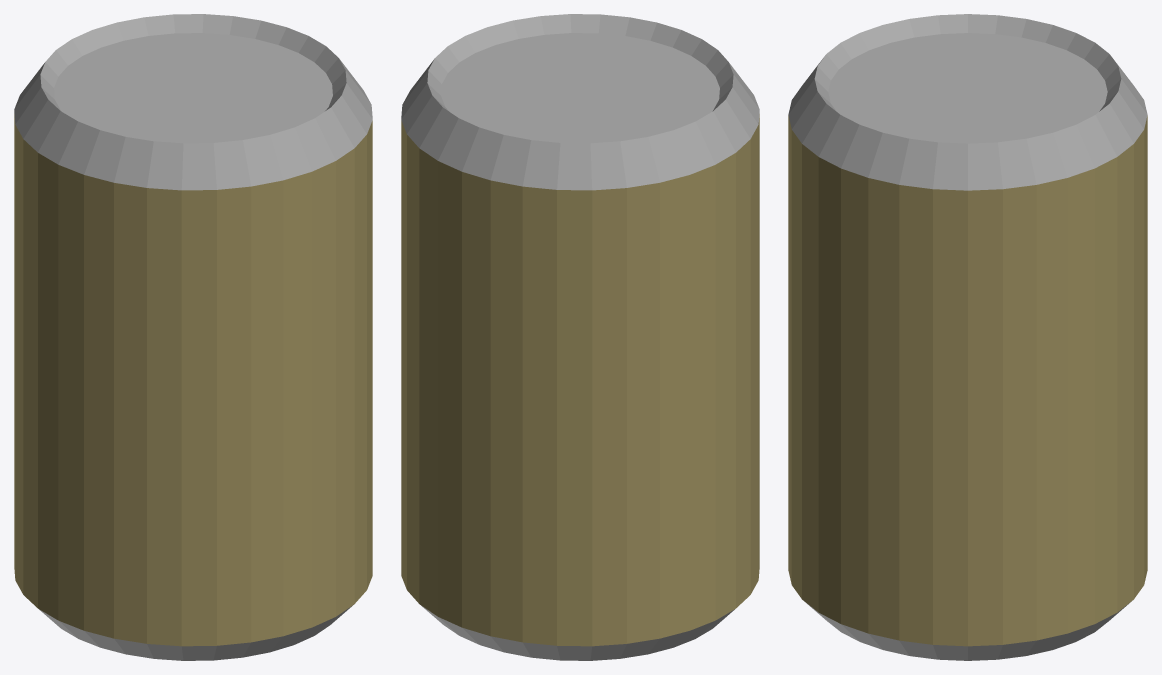
Rendered from sondels.fbx.
The picture shows the model from 3 angles, left to right: view 1: azimuth 30°, elevation 25°; view 2: azimuth 150°, elevation 25°; view 3: azimuth 270°, elevation 25°; orthographic projection.
Visible parts, largest first — view 1: Logo, top; view 2: Logo, top; view 3: Logo, top.
Part boxes in pixels (left/top/right/bottom): Logo: left=14, top=114, right=372, bottom=646; top: left=14, top=14, right=372, bottom=660; Logo: left=401, top=114, right=759, bottom=646; top: left=401, top=14, right=759, bottom=660; Logo: left=788, top=115, right=1147, bottom=646; top: left=788, top=14, right=1147, bottom=660.
Bounding box in the file's own units: 200 × 318 × 200.
